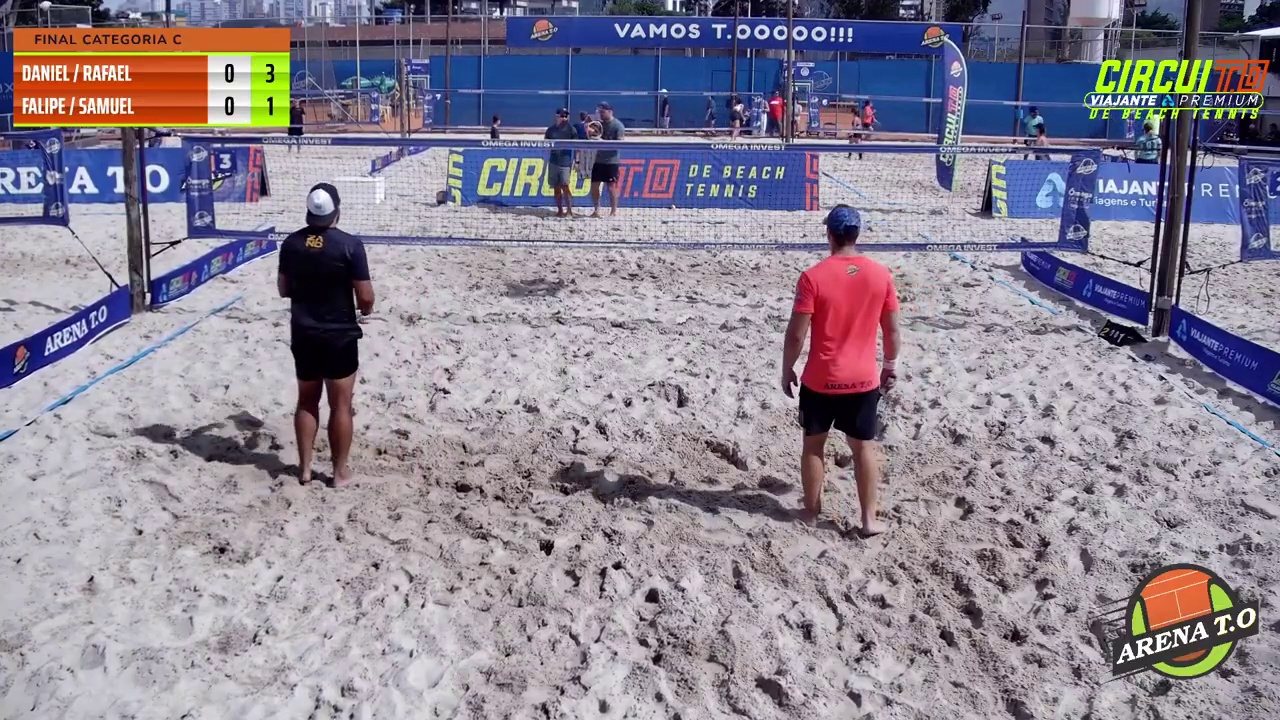court_line: (645, 0, 833, 496)
